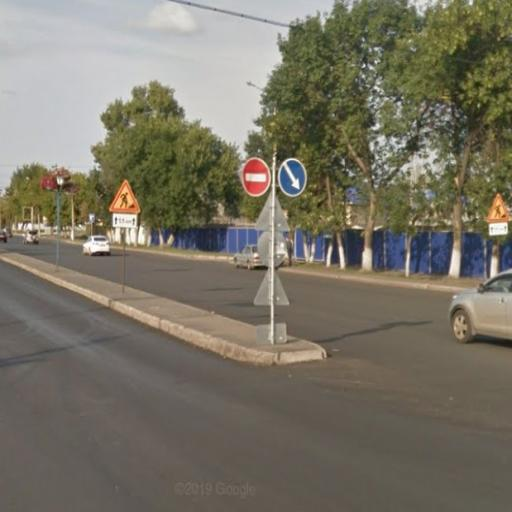traffic_sign: (240, 155, 273, 202), (108, 176, 144, 217)
